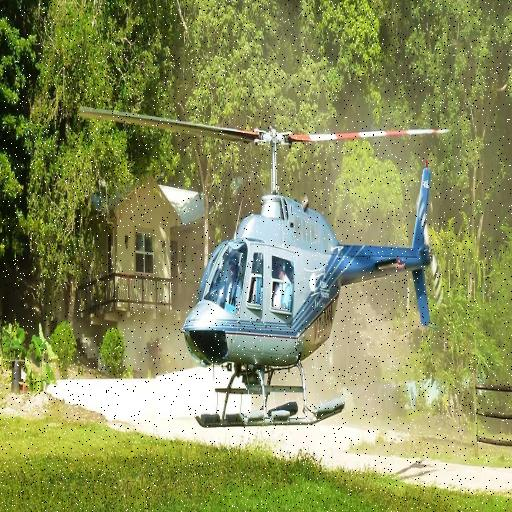helicopter: (180, 122, 442, 442)
